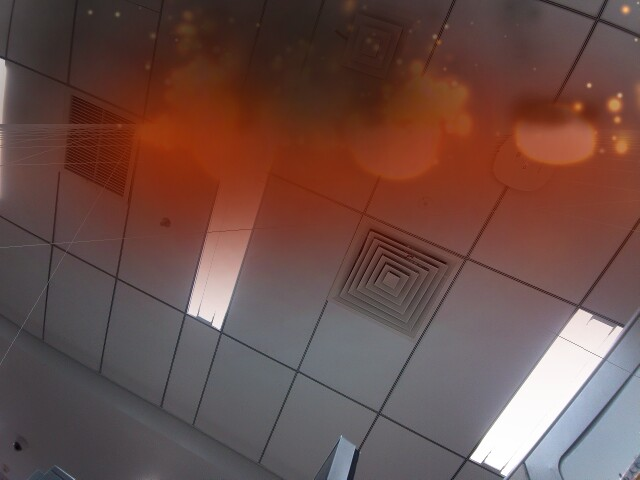fire: (351, 100, 442, 181), (509, 98, 599, 167)
